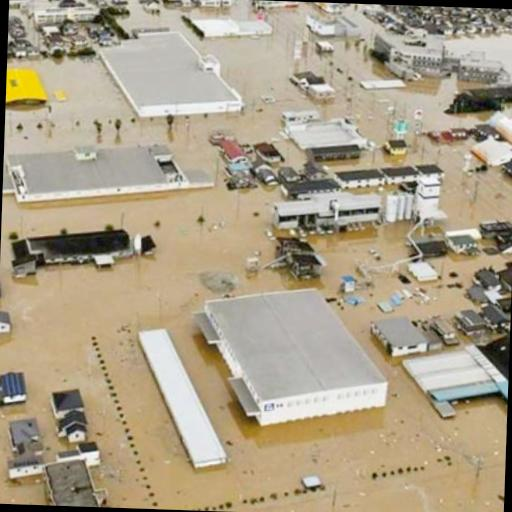flood: (0, 0, 512, 512), (323, 135, 512, 234)
house: (197, 275, 385, 438), (1, 132, 198, 235), (130, 319, 242, 465), (92, 31, 246, 123), (404, 343, 509, 417), (26, 221, 136, 275), (278, 184, 382, 240), (288, 114, 374, 162), (39, 459, 109, 507), (382, 38, 448, 78), (368, 316, 428, 357), (4, 64, 52, 112), (32, 0, 98, 25), (297, 73, 337, 101), (386, 134, 408, 156)
